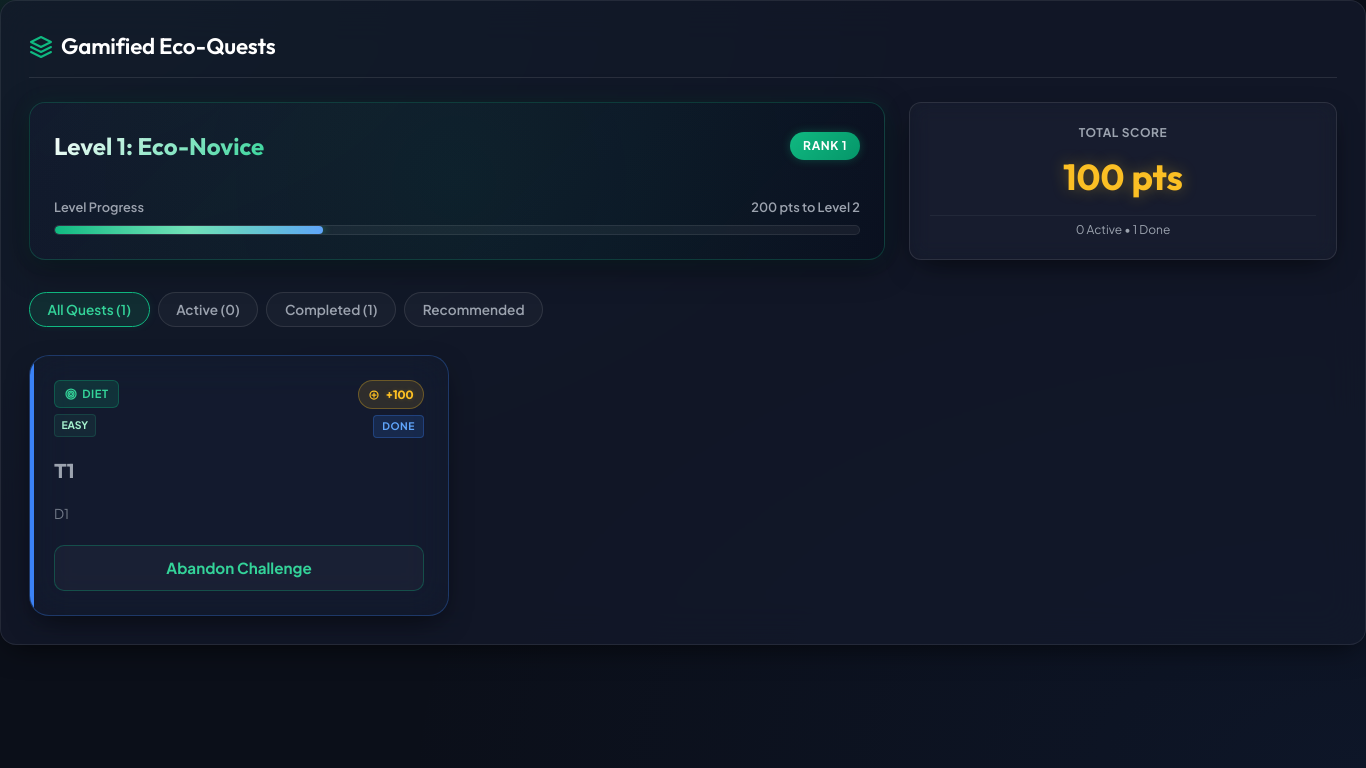
it: EcoChallenges › allows abandoning a completed challenge
Click the button "Abandon Challenge" at (239, 568), box [54, 545, 424, 591]
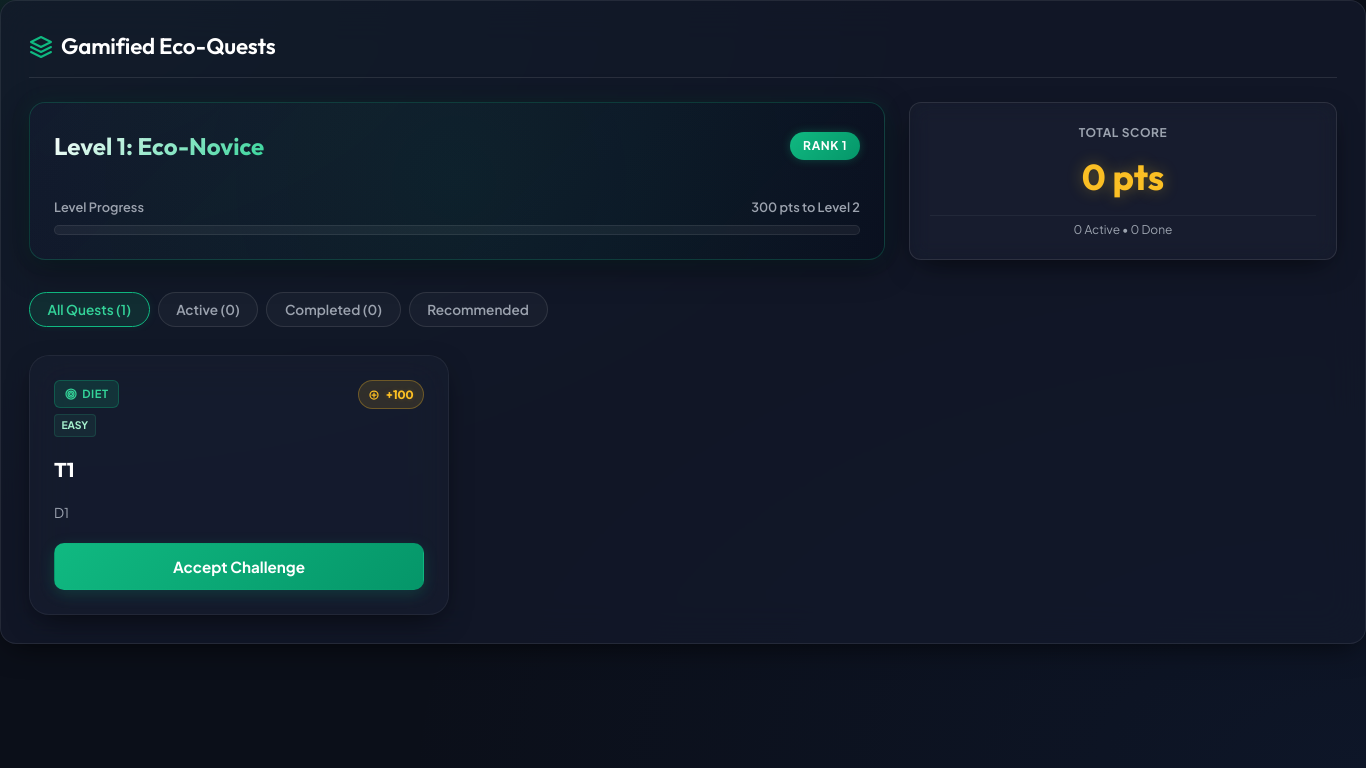
Result: the button "Accept Challenge" is shown at [54, 543, 424, 590]
